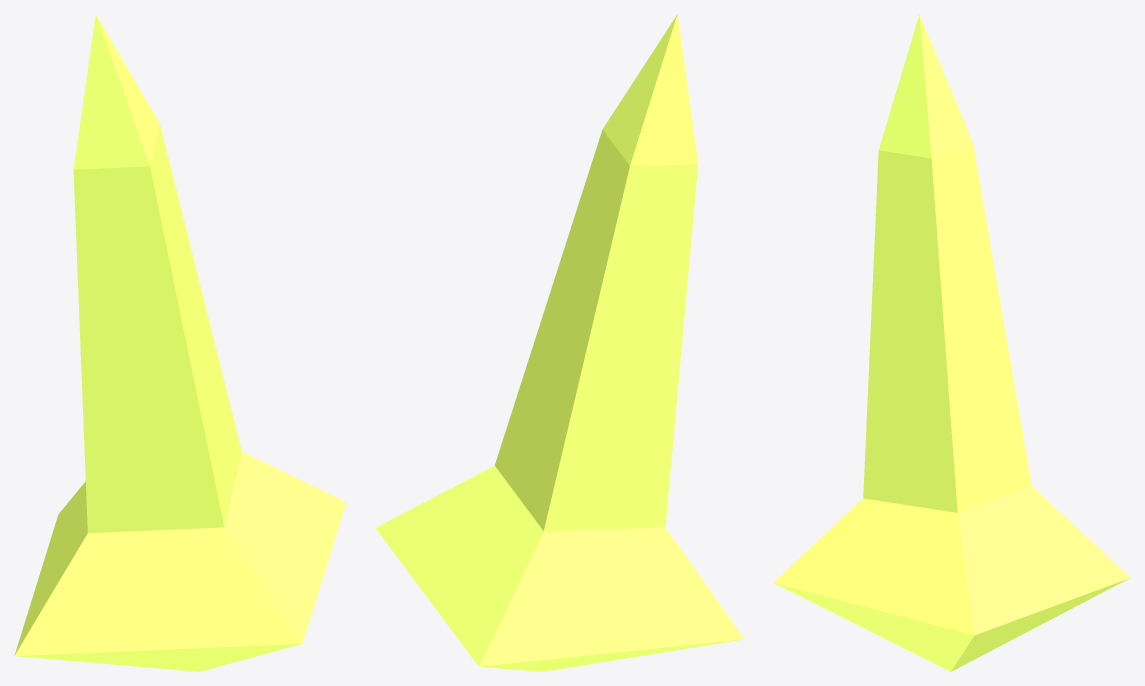
File: H1_YPl_Blob1.gltf
3 views of the same model, side by side, from view 1: azimuth 30°, elevation 25°; view 2: azimuth 150°, elevation 25°; view 3: azimuth 270°, elevation 25° (orthographic). The views are drawn at different scales.
Parts seen in each view (by area): view 1: H1_YPl_Blob1; view 2: H1_YPl_Blob1; view 3: H1_YPl_Blob1.
Boxes of the visible parts, x1,y1,x2,y2 form: H1_YPl_Blob1: (14, 14, 346, 671); H1_YPl_Blob1: (375, 14, 744, 671); H1_YPl_Blob1: (773, 14, 1130, 671).
Size of the model in its own units: 1.05 by 1.96 by 1.05.
